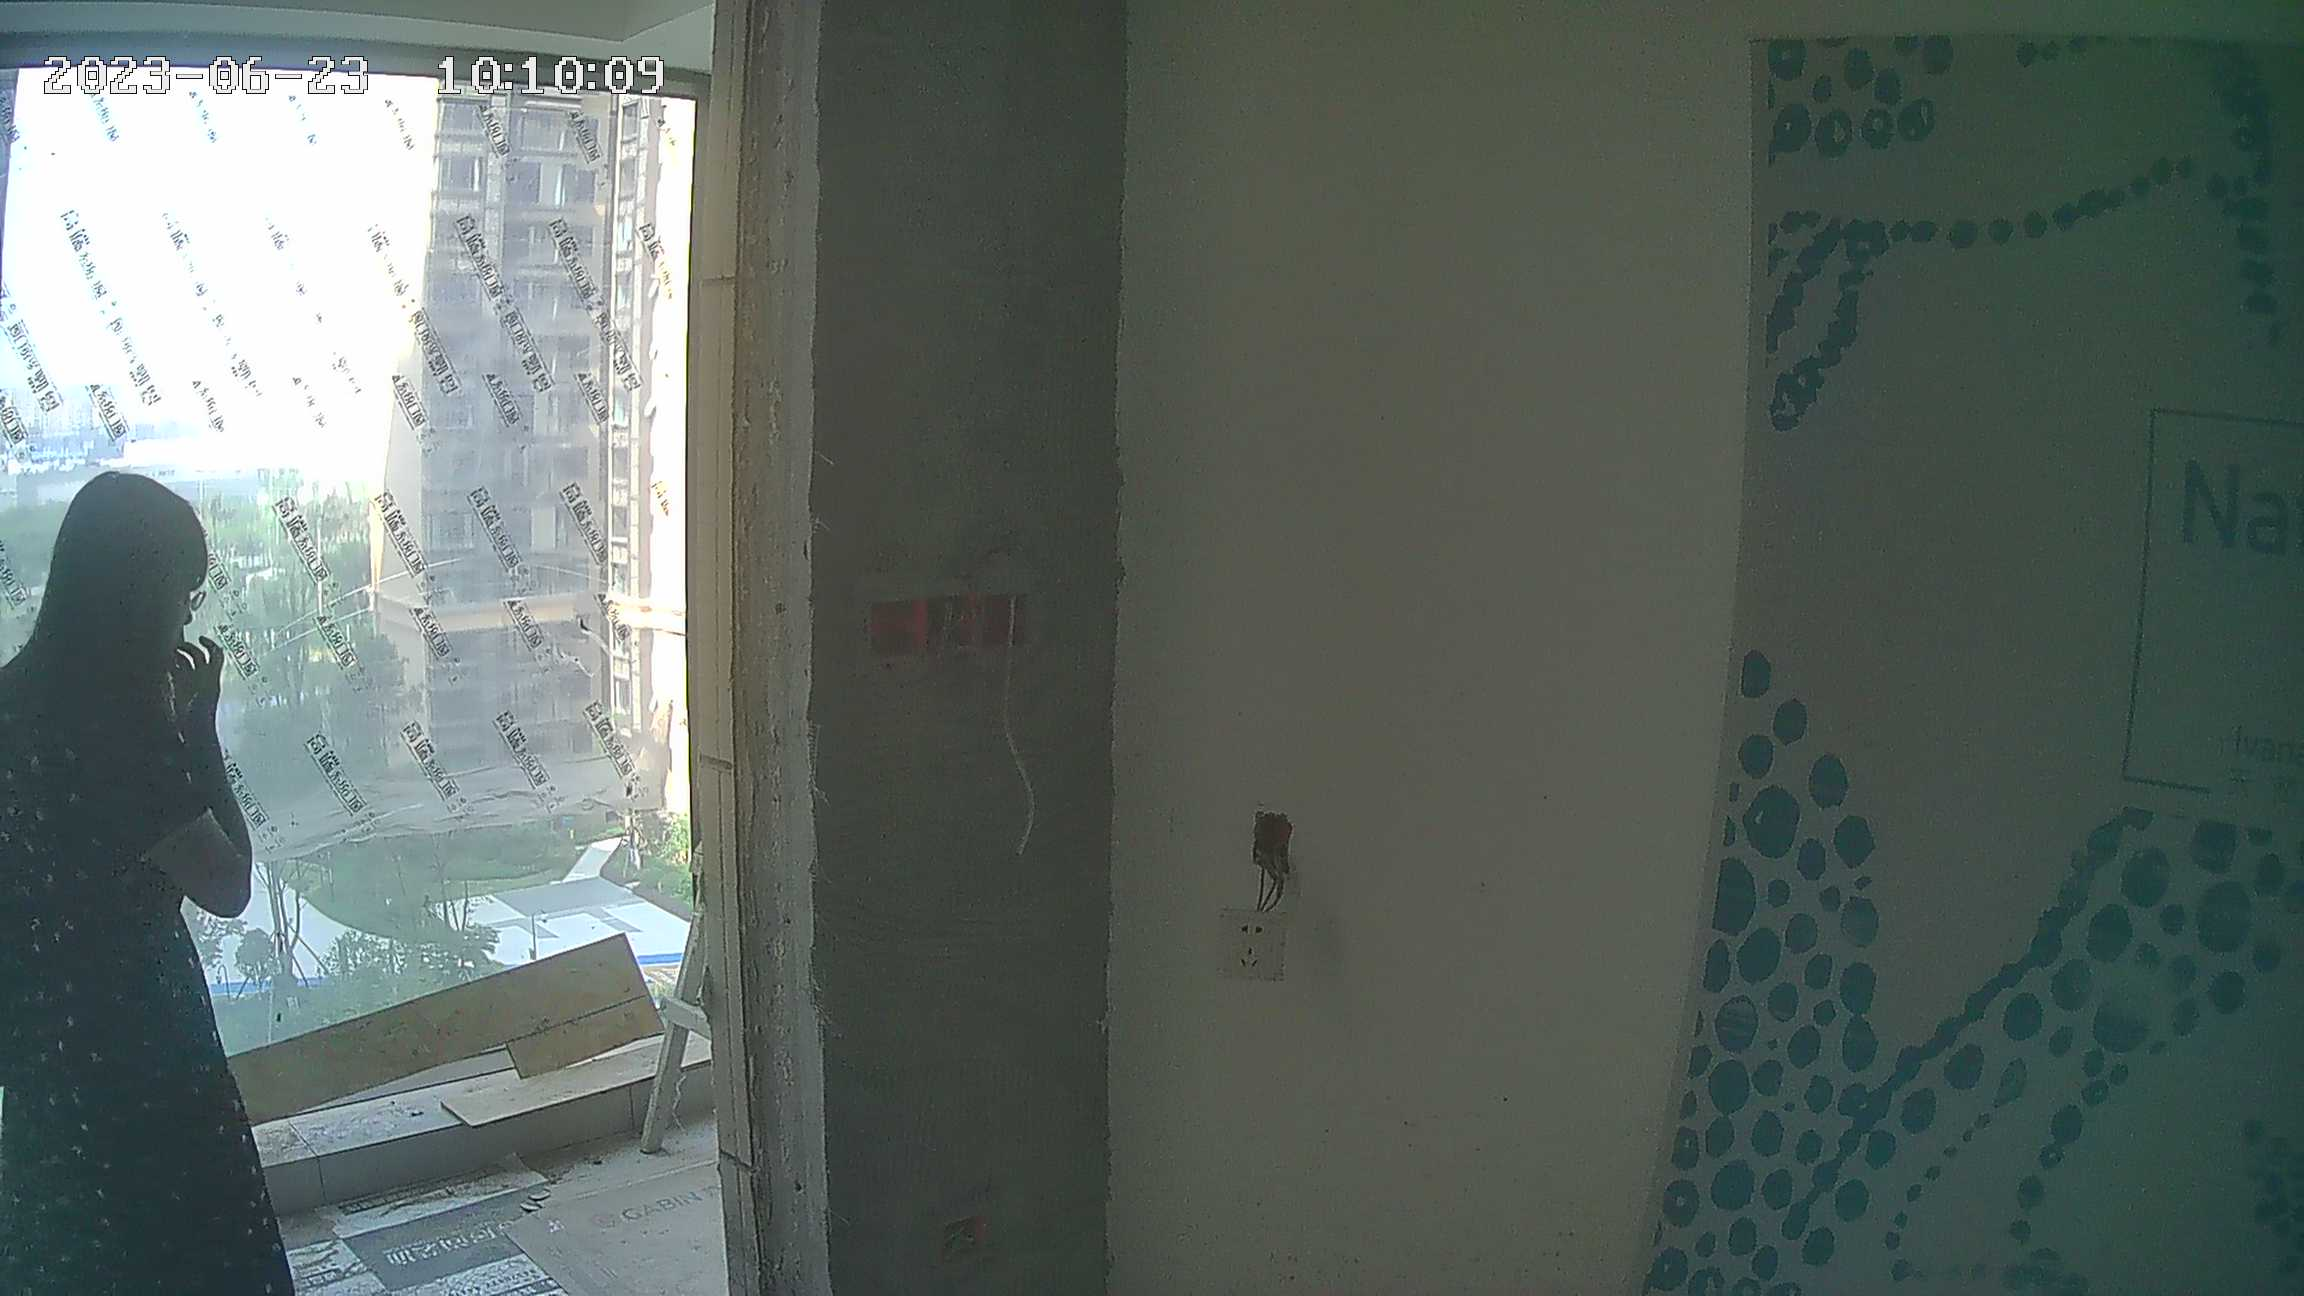people: (1, 475, 254, 1278)
window: (6, 69, 735, 1068)
